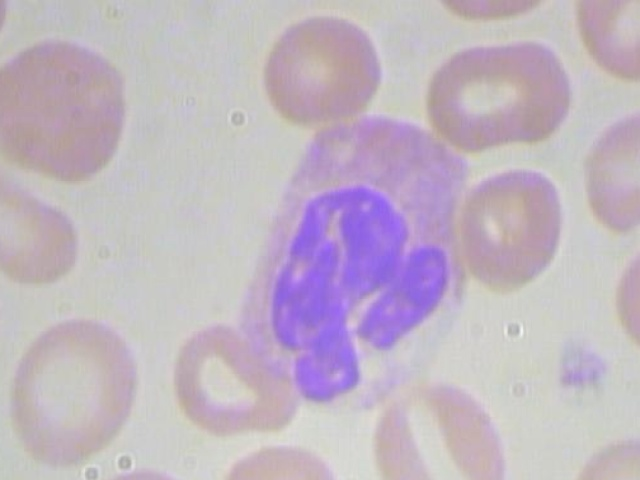RBC: (0, 308, 143, 480), (0, 36, 138, 187), (247, 4, 398, 131), (424, 29, 574, 156), (161, 315, 304, 443), (452, 165, 576, 299), (363, 379, 510, 480), (574, 92, 640, 236), (571, 0, 640, 92), (213, 437, 343, 480), (411, 0, 573, 34), (607, 217, 640, 373), (565, 420, 640, 480)
WBC: (235, 104, 505, 412)
